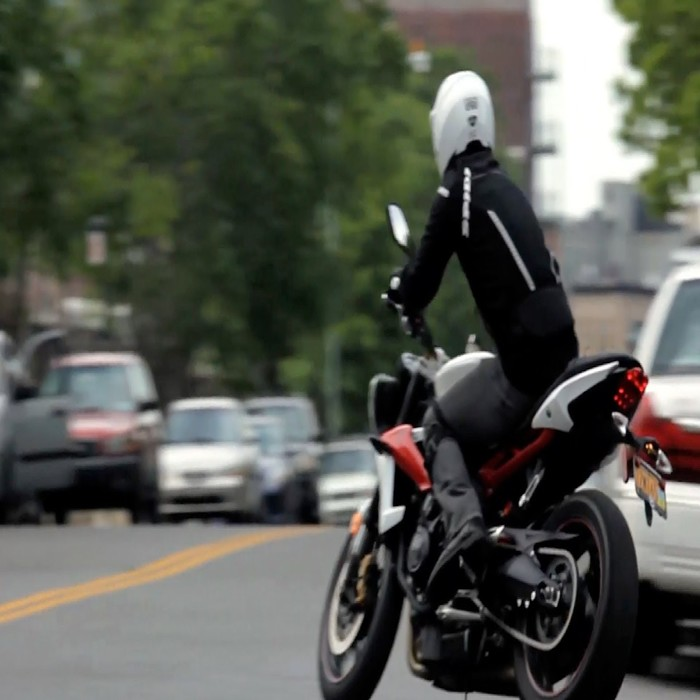h: (430, 68, 500, 190)
